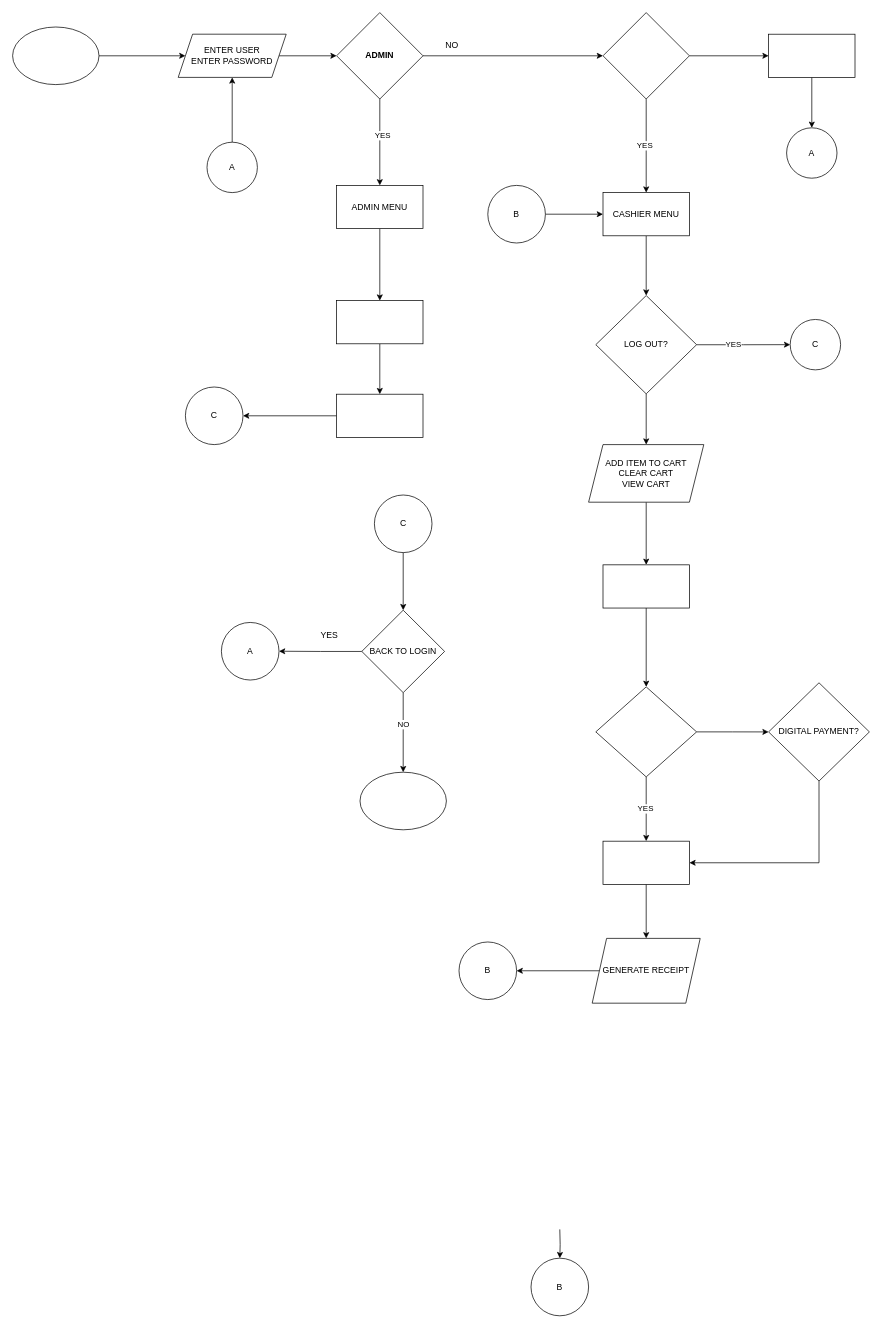
This 882x1328 diagram has some shape labels left out. Here are the shapes that lost their labels. From the top down, the centre of each, then its label:
At (x=55, y=55): "START".
At (x=645, y=55): "CASHIER".
At (x=811, y=55): "INVALID INPUT!".
At (x=379, y=322): "VIEW TRANSACTION RECORD".
At (x=379, y=415): "LOG OUT".
At (x=645, y=586): "CHECKOUT".
At (x=646, y=731): "CASH?".
At (x=402, y=800): "END".
At (x=645, y=862): "PROCESS PAYMENT".
